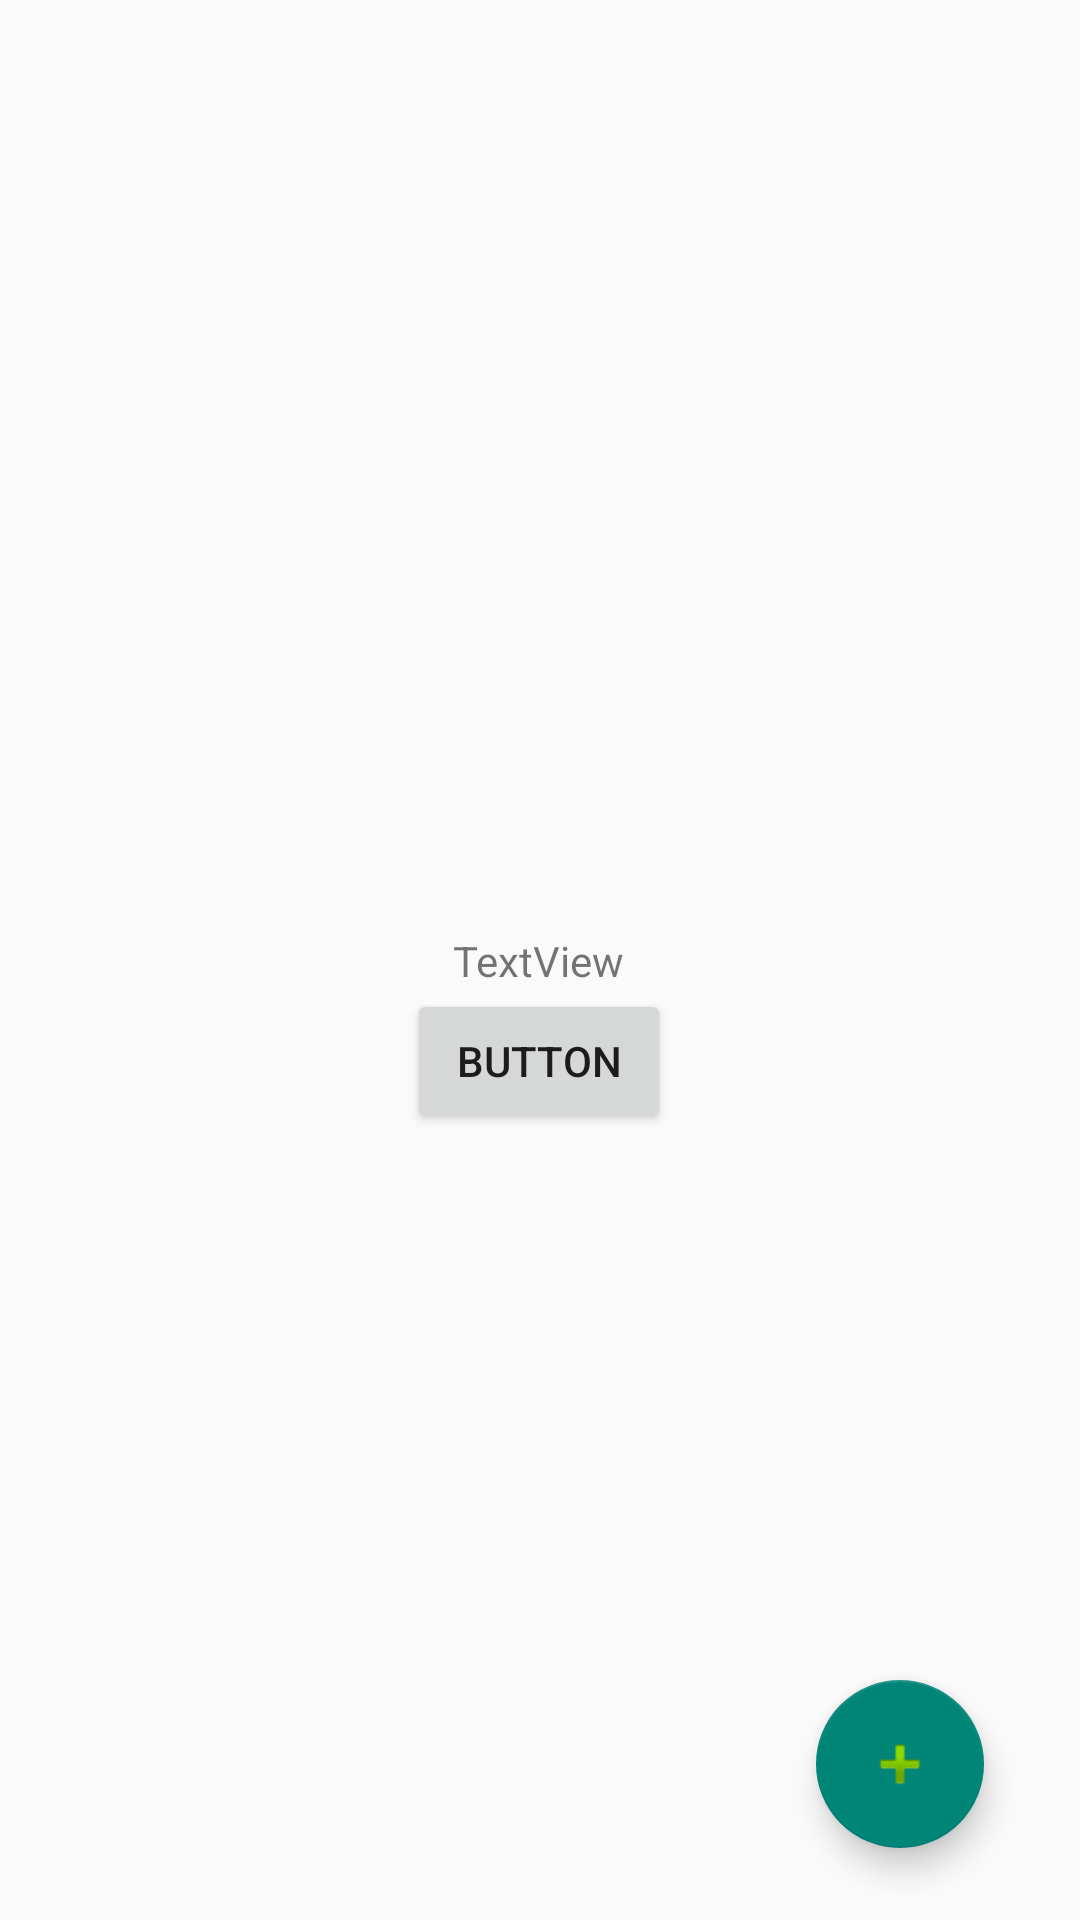

Screen size 1080 × 1920. Icon name, then its box in pixels as bbox=[x1, y1, x2, y2]:
add: bbox=[816, 1680, 984, 1848]
